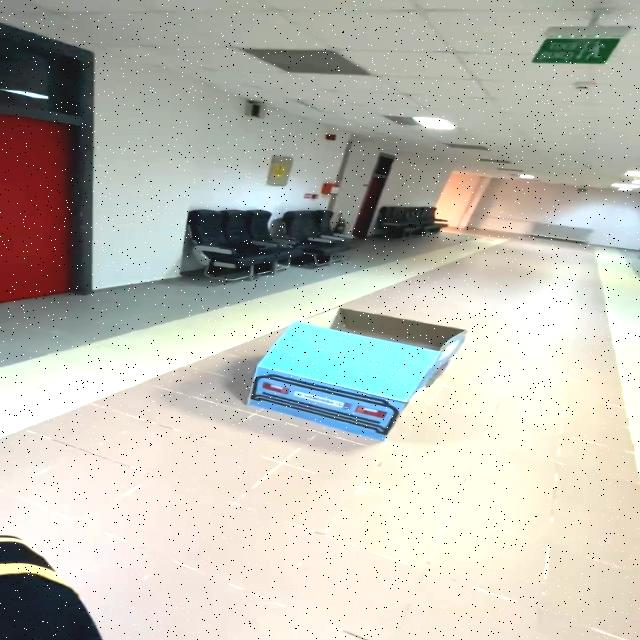blue_car: (235, 302, 484, 456)
